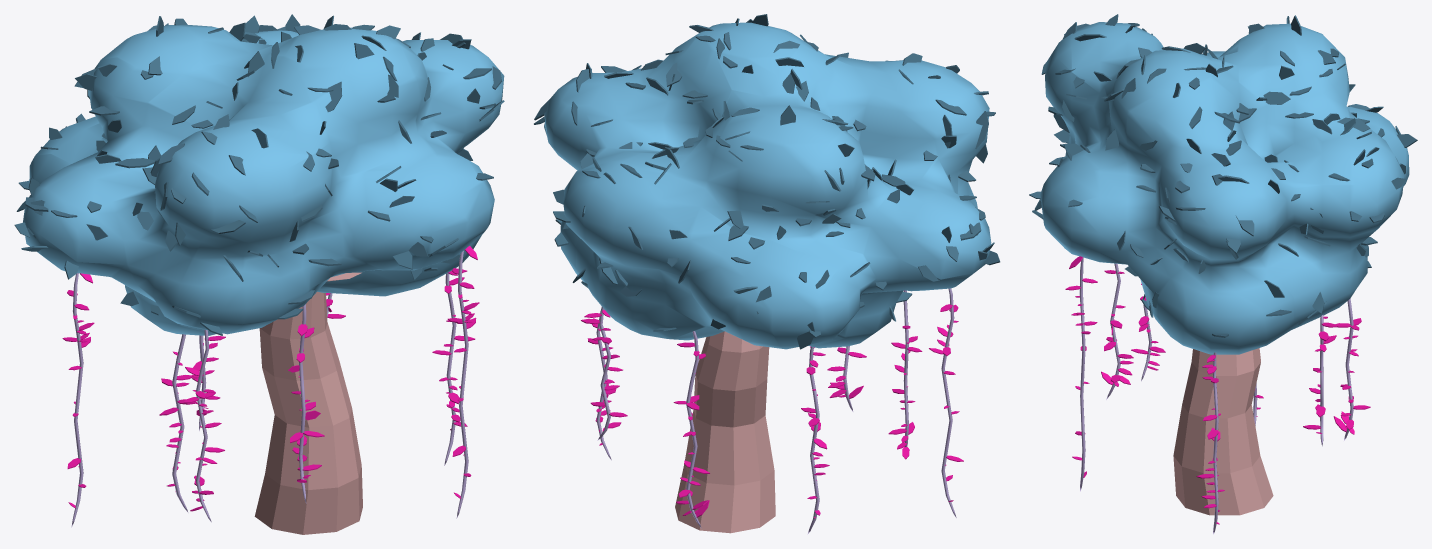
Rendered from Tree.fbx.
The picture shows the model from 3 angles, left to right: view 1: azimuth 30°, elevation 25°; view 2: azimuth 150°, elevation 25°; view 3: azimuth 270°, elevation 25°; orthographic projection. The views are drawn at different scales.
Parts seen in each view (by area): view 1: Plane.276; view 2: Plane.276; view 3: Plane.276.
Part boxes in pixels (x1,y1,x2,y2): Plane.276: [14, 14, 504, 534]; Plane.276: [534, 14, 1000, 534]; Plane.276: [1029, 14, 1417, 534].
Size of the model in its own units: 10.24 by 9.99 by 7.98.
